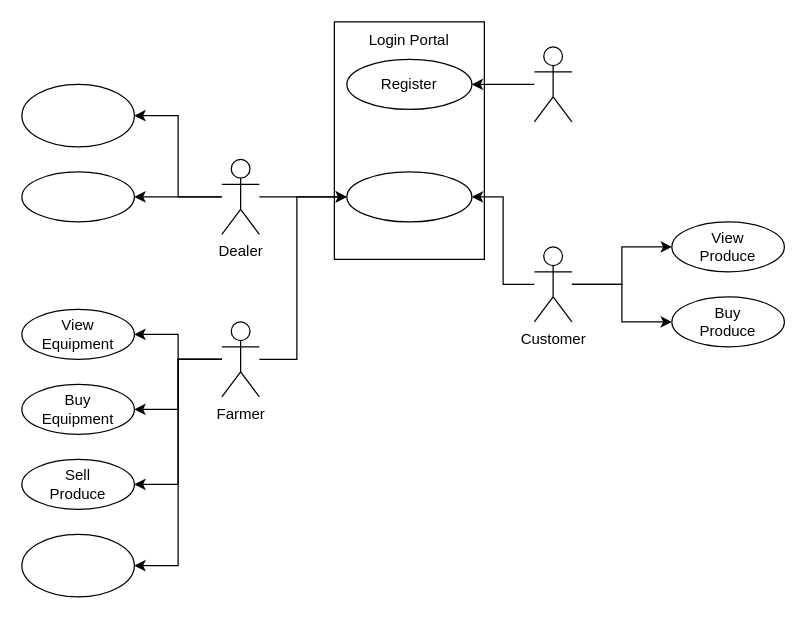
Image size: 806x619. Some labels were removed from this diagram. The shapes that lost their labels are listed below. From the top down, each one's centre as x and y in pixels, then its label:
[552,84]: Unregistered User
[77,115]: Create Equipment listing
[77,196]: Sell Equipment
[409,196]: Login
[77,565]: Create Produce listing
